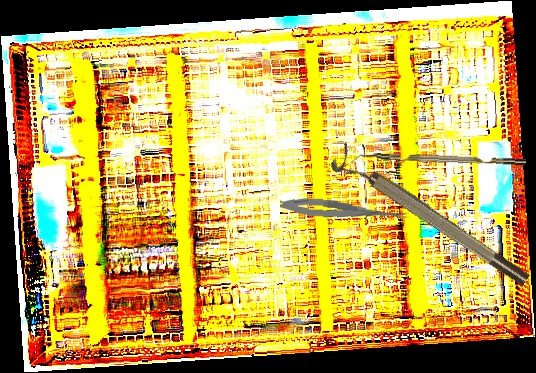Chopper: (351, 149, 526, 175)
Fixation Ring: (328, 141, 533, 298)
Micro Scissor: (279, 195, 410, 224)
